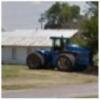tractors: (27, 37, 95, 75)
